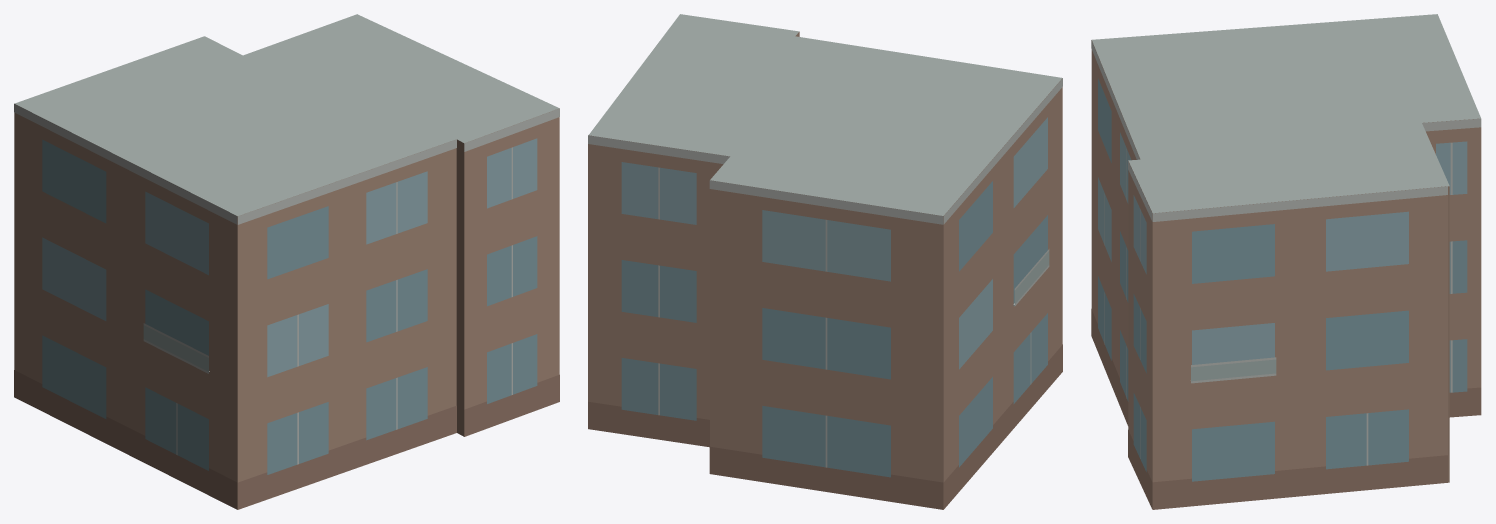
The model's file is survey-upis-32619551.glb.
3 views of the same model, side by side, from view 1: azimuth 30°, elevation 25°; view 2: azimuth 150°, elevation 25°; view 3: azimuth 270°, elevation 25° (orthographic).
Visible parts, largest first — view 1: survey-upis-32619551.tmp; view 2: survey-upis-32619551.tmp; view 3: survey-upis-32619551.tmp.
Boxes of the visible parts, x1=… form: survey-upis-32619551.tmp: x1=14, y1=14, x2=559, y2=509; survey-upis-32619551.tmp: x1=588, y1=14, x2=1062, y2=509; survey-upis-32619551.tmp: x1=1091, y1=14, x2=1481, y2=509.
Bounding box in the file's own units: 11.81 × 8.19 × 9.76.
